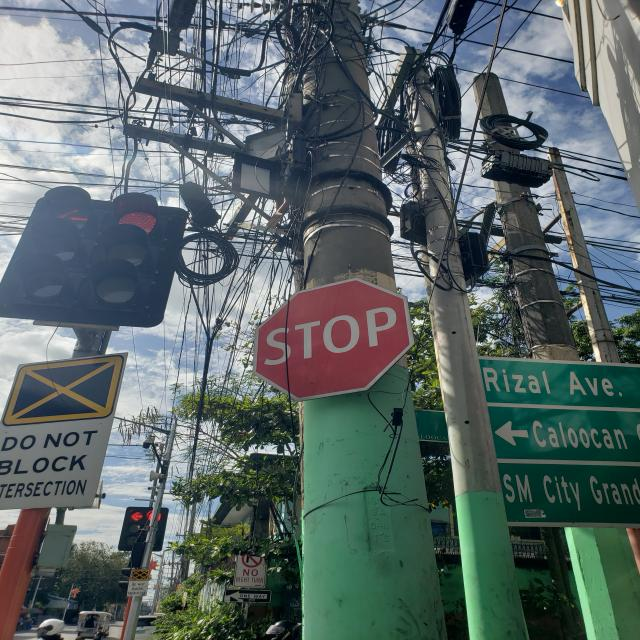stop-sign: (252, 277, 416, 402)
